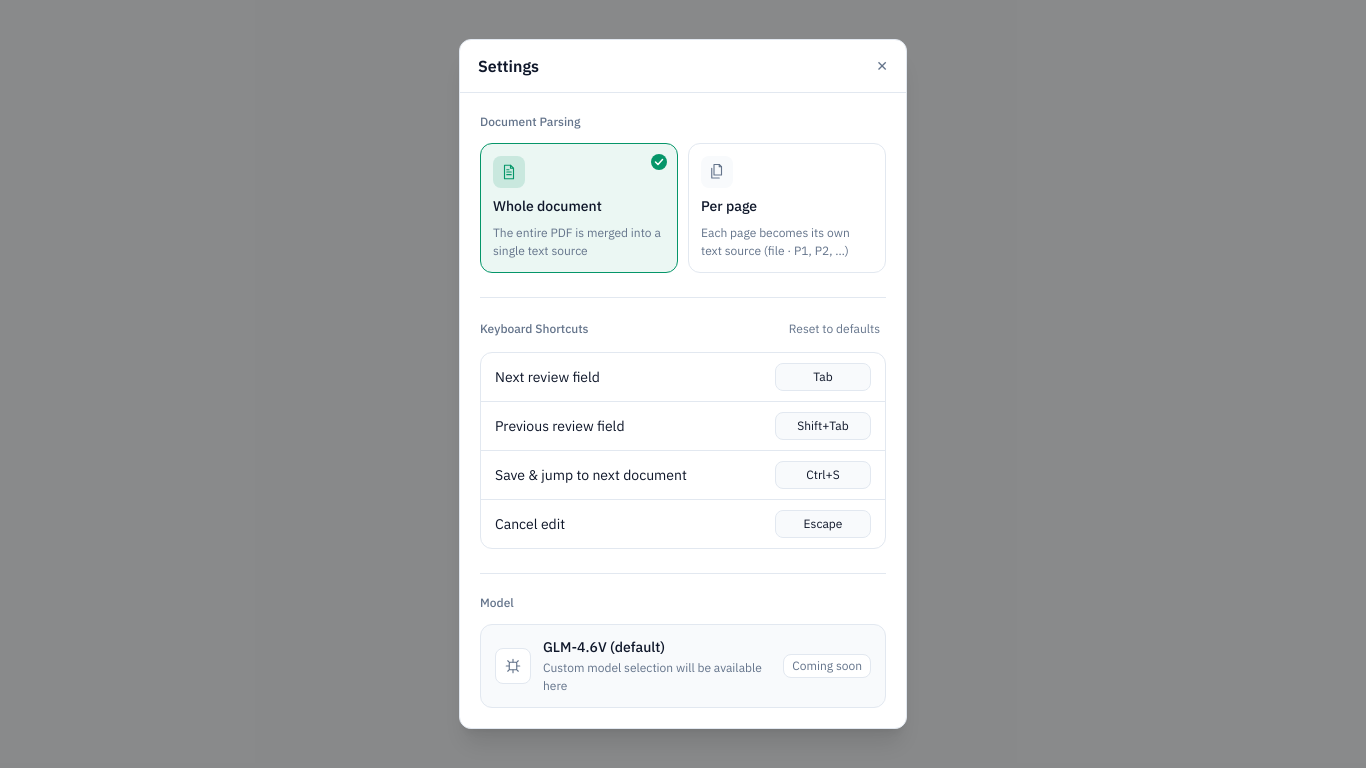
Test: SettingsModal › shortcuts section (issue #5) › rebinds a shortcut by recording a new combo
Click the button with aria-label "Rebind: Next review field" at point(823, 377), box [775, 363, 871, 391]
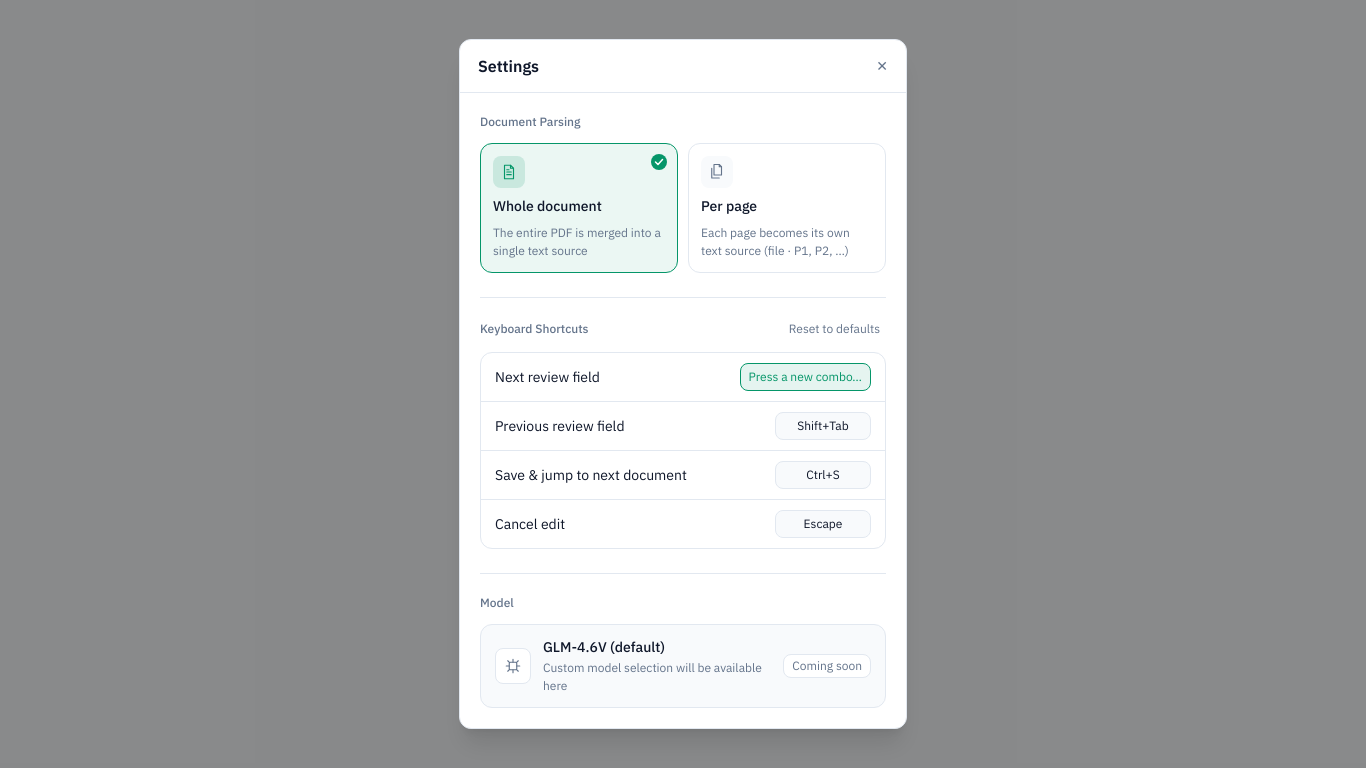
Expected: the button "Press a new combo…" is shown, [740, 363, 871, 391]
Press d in the dialog, box [459, 39, 907, 729]
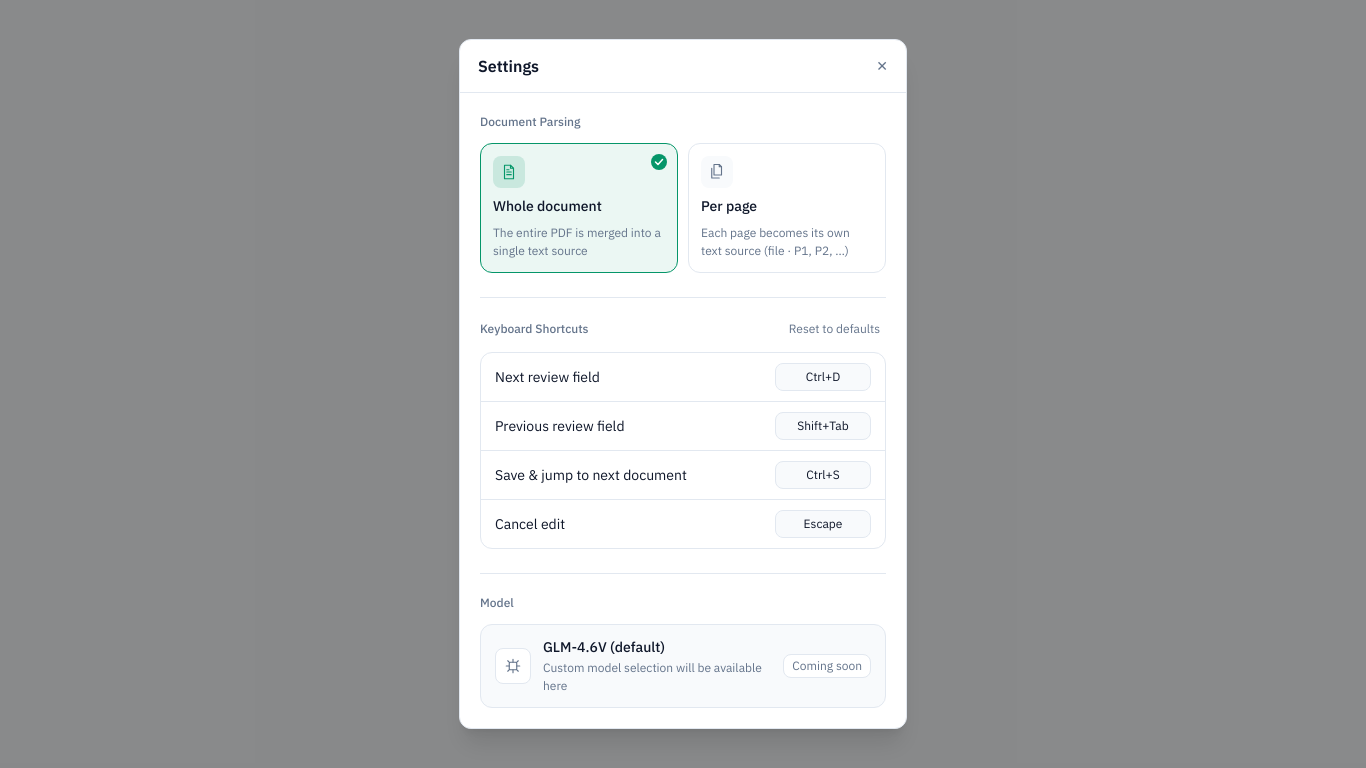
Expected: the button "Press a new combo…" reads "Ctrl+D", [775, 363, 871, 391]
Expected: the button with aria-label "Rebind: Next review field" reads "Ctrl+D", [775, 363, 871, 391]
